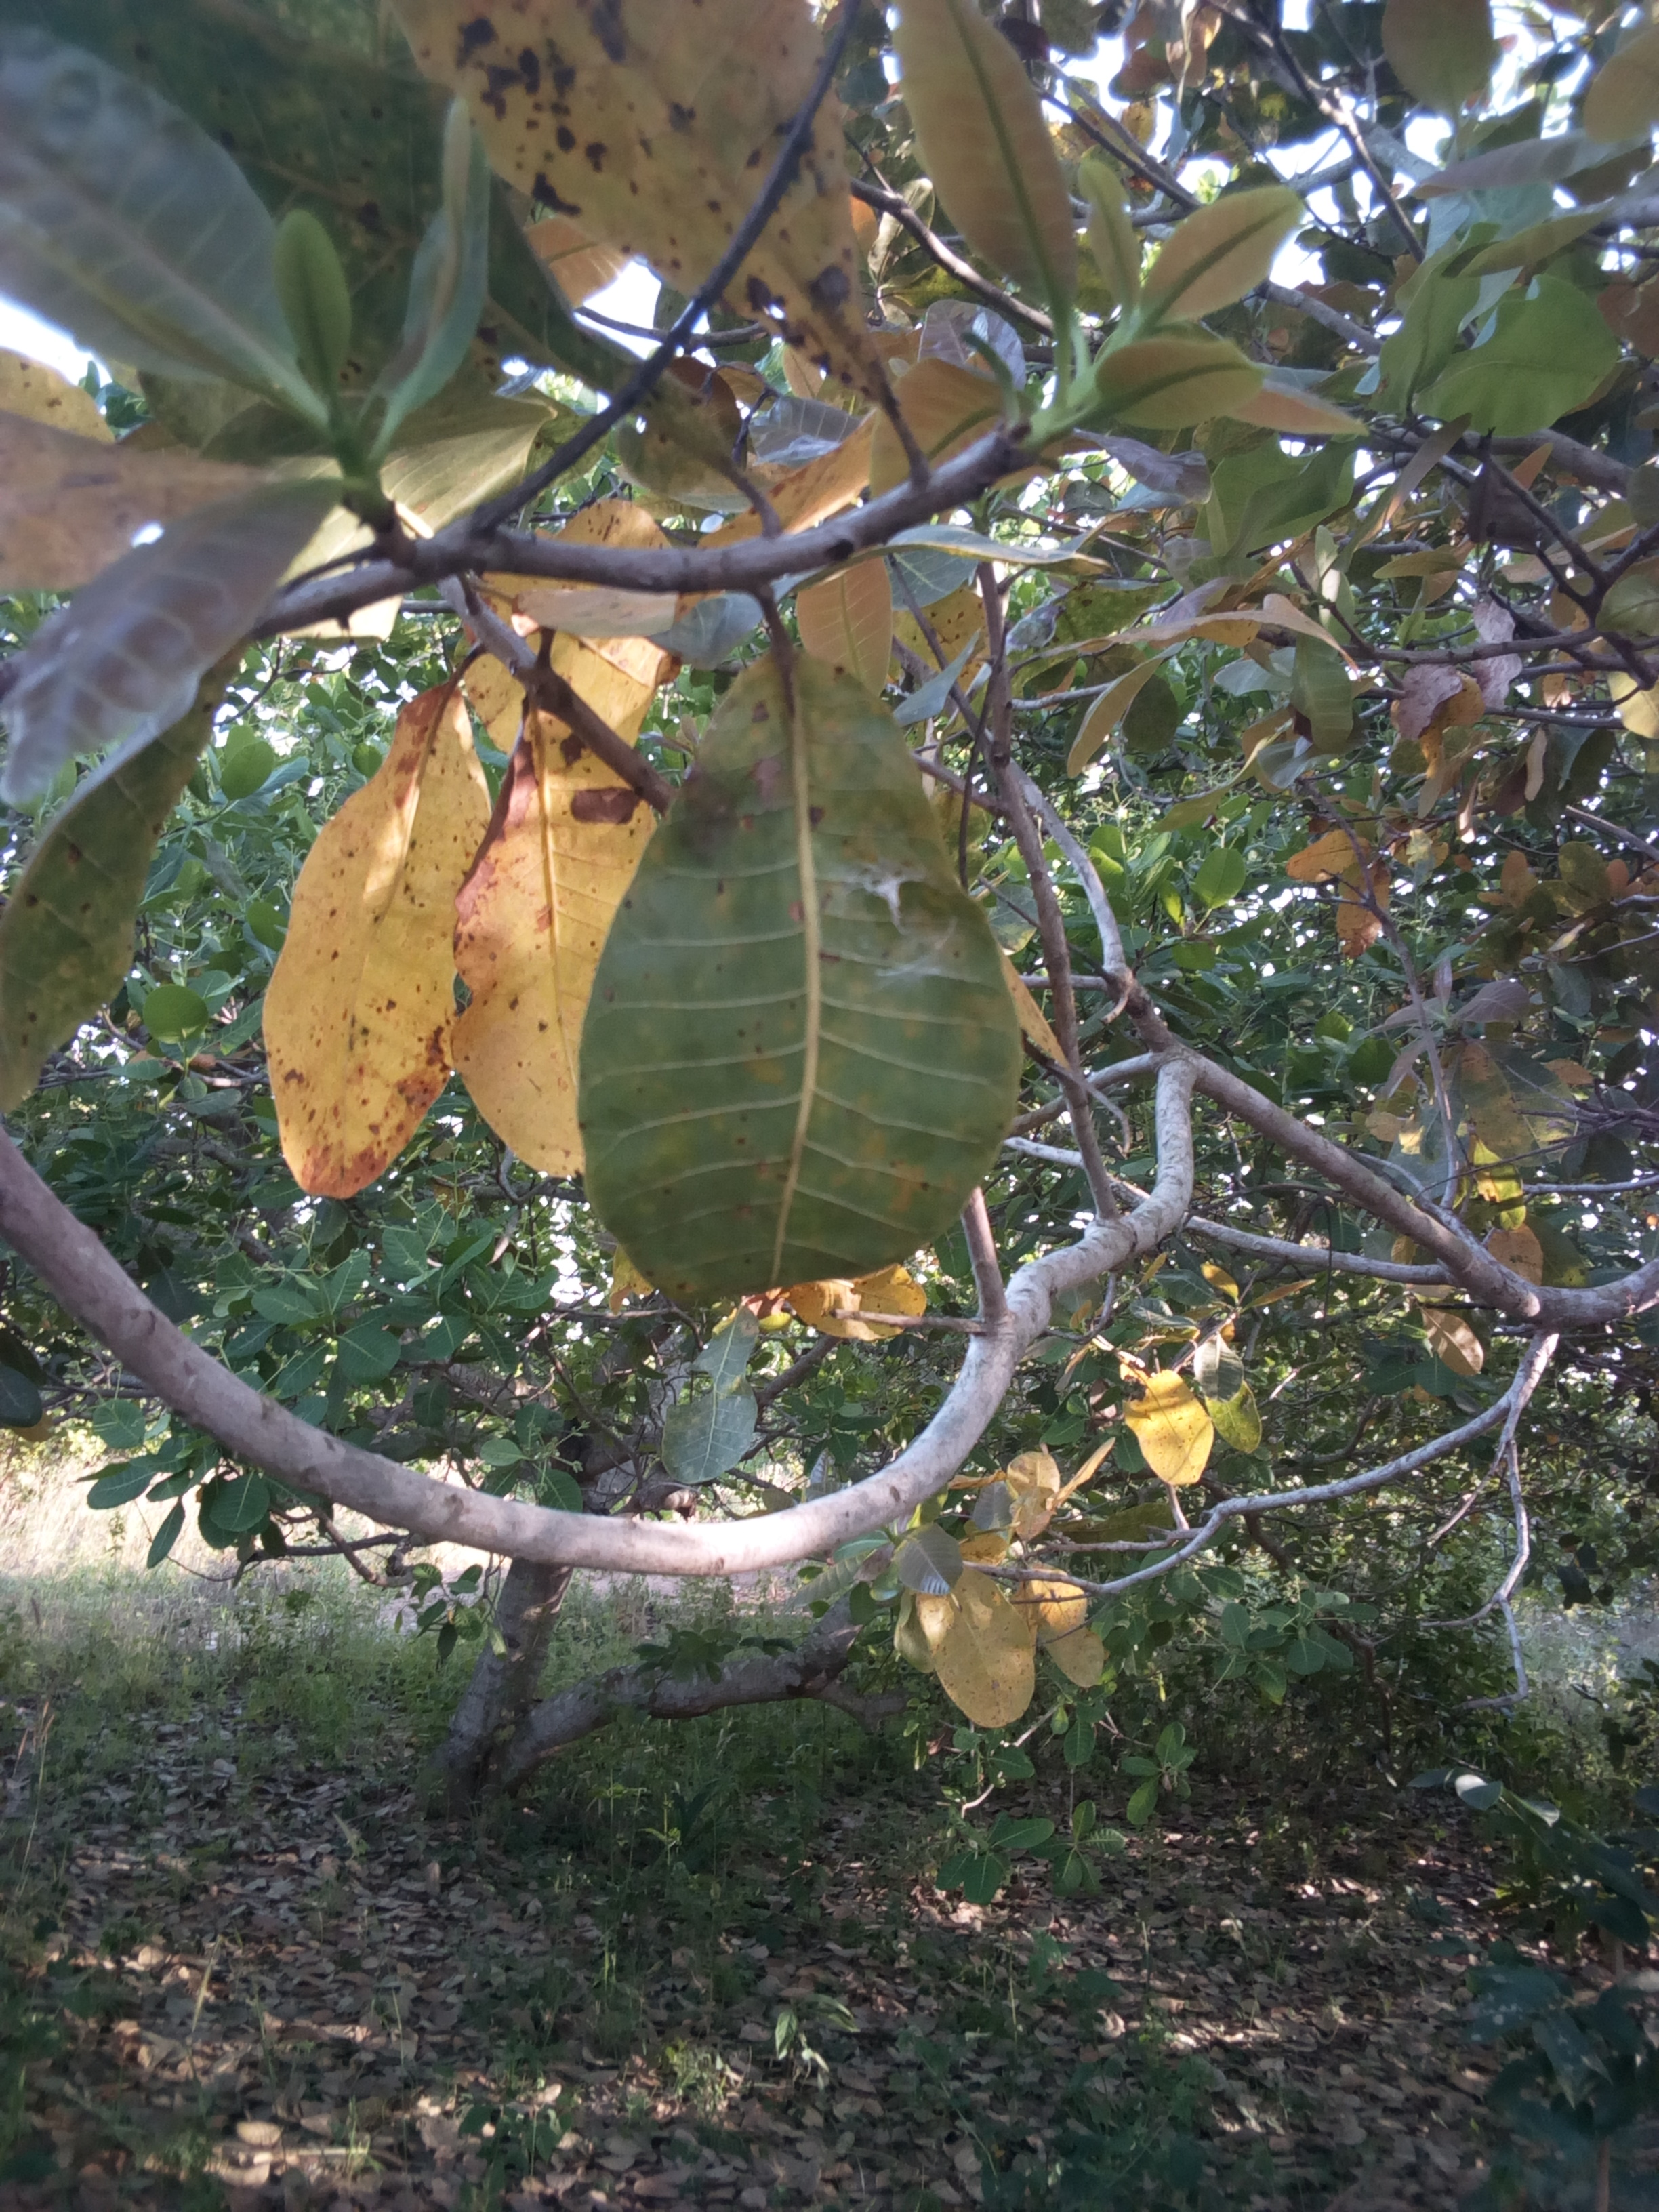Bactériose: (453, 0, 897, 401), (274, 676, 481, 1214), (457, 700, 671, 1184)
